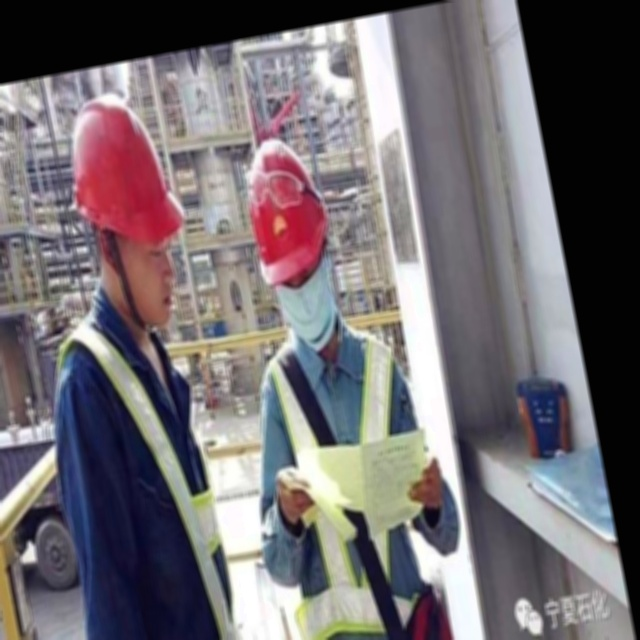Con_Casco: (58, 86, 182, 291), (232, 133, 348, 316)
Con_Chaleco: (41, 290, 254, 640), (251, 320, 453, 640)
